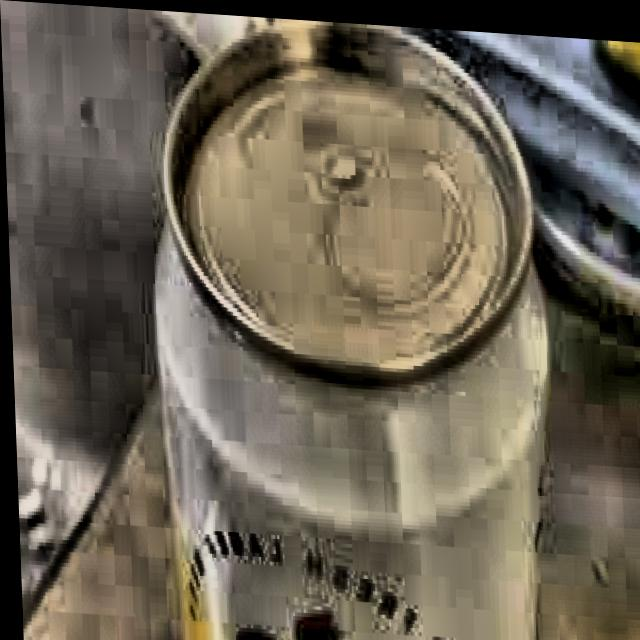can: (136, 7, 560, 640)
